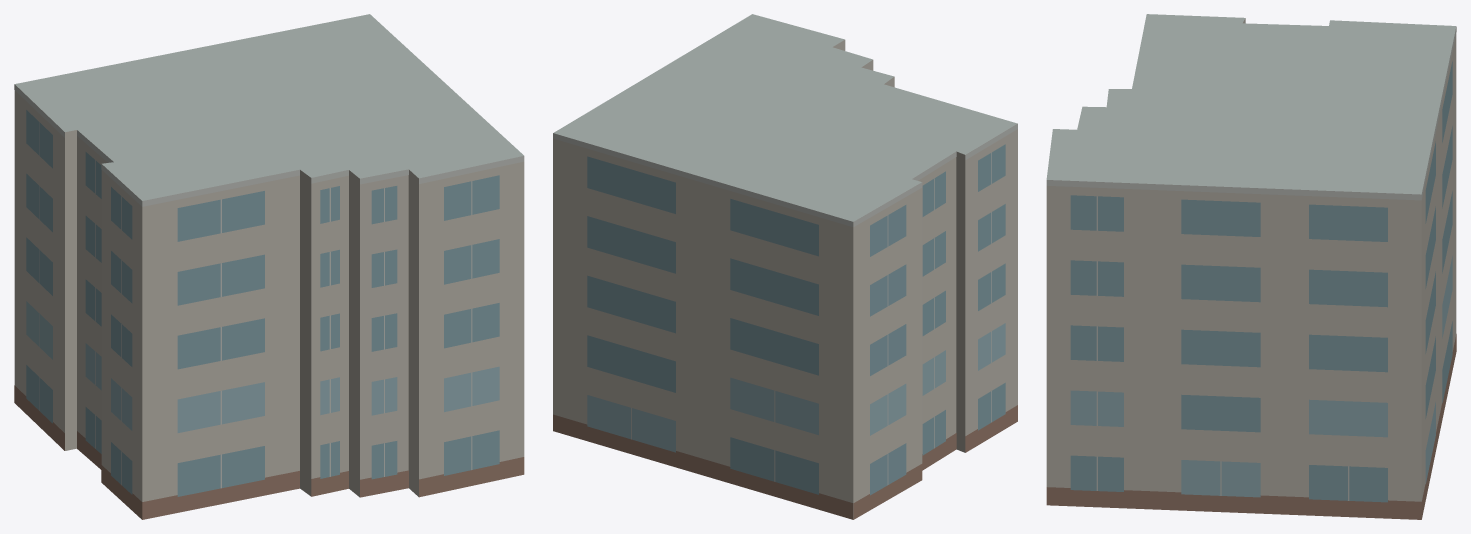
File: survey-upis-32479990.glb
3 renders of one model, left to right at view 1: azimuth 30°, elevation 25°; view 2: azimuth 150°, elevation 25°; view 3: azimuth 270°, elevation 25°, orthographic. The views are drawn at different scales.
Visible parts, largest first — view 1: survey-upis-32479990.tmp; view 2: survey-upis-32479990.tmp; view 3: survey-upis-32479990.tmp.
Part boxes in pixels (x1,y1,x2,y2): survey-upis-32479990.tmp: [14, 14, 524, 519]; survey-upis-32479990.tmp: [553, 14, 1017, 519]; survey-upis-32479990.tmp: [1046, 14, 1456, 519].
Bounding box in the file's own units: 15.95 × 13.4 × 15.31.
